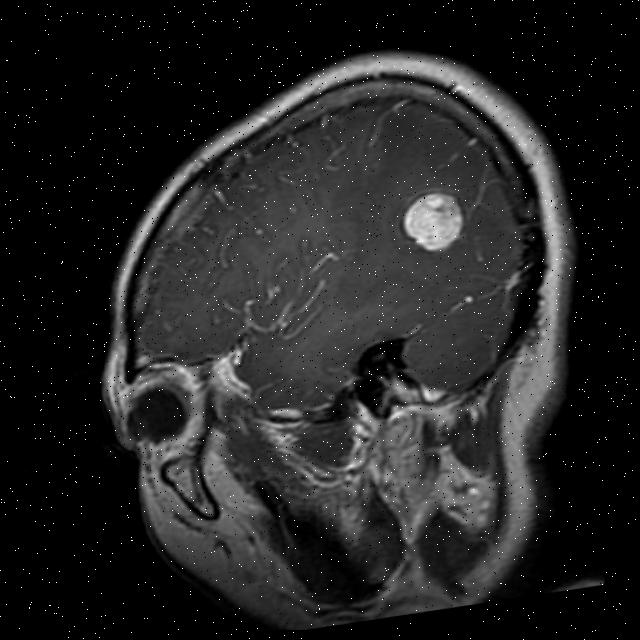Glioma: (396, 184, 470, 256)
